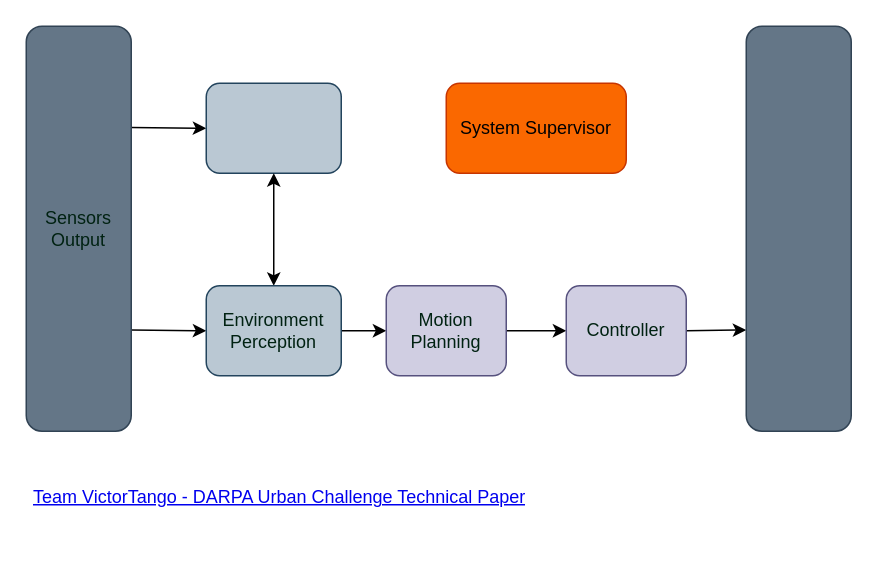
Image size: 878x563. Some labels were removed from this diagram. The shapes that lost their labels are listed below. From the top down, each one's centre as x and y in pixels, then its label:
At point 273,127: "Environment Mapping".
At point 798,228: "Actuation".
